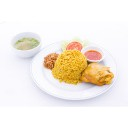briyani: (58, 50, 114, 87)
